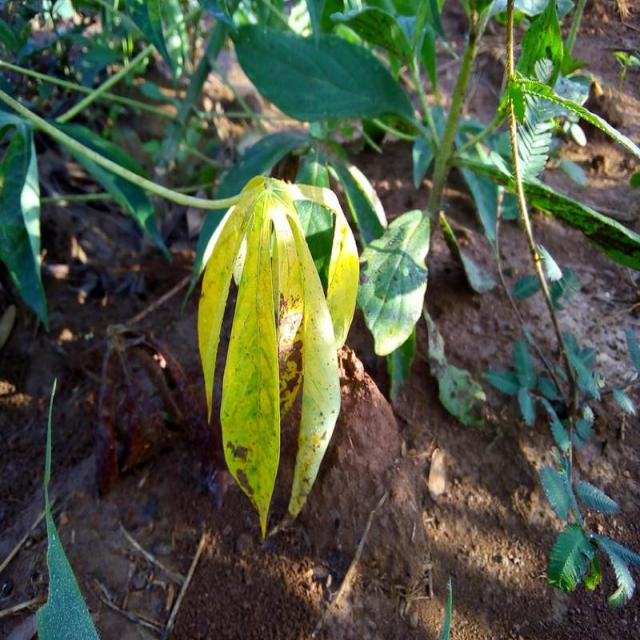cassava leaf: (195, 174, 356, 540)
